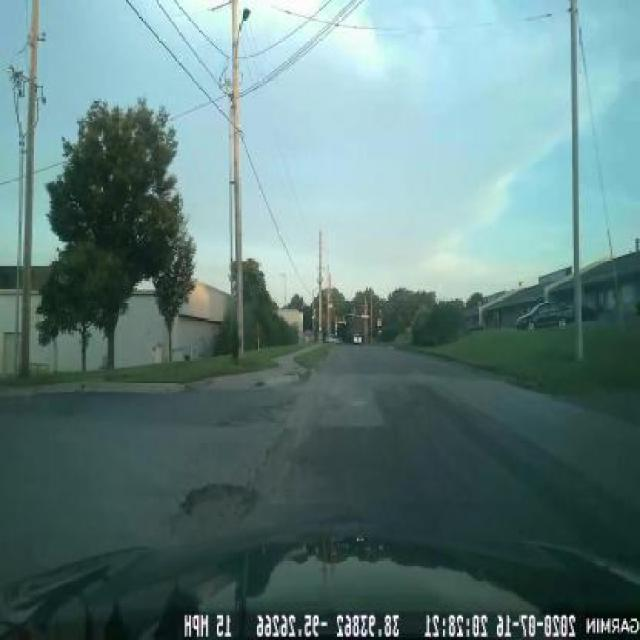pothole: (174, 475, 262, 538)
